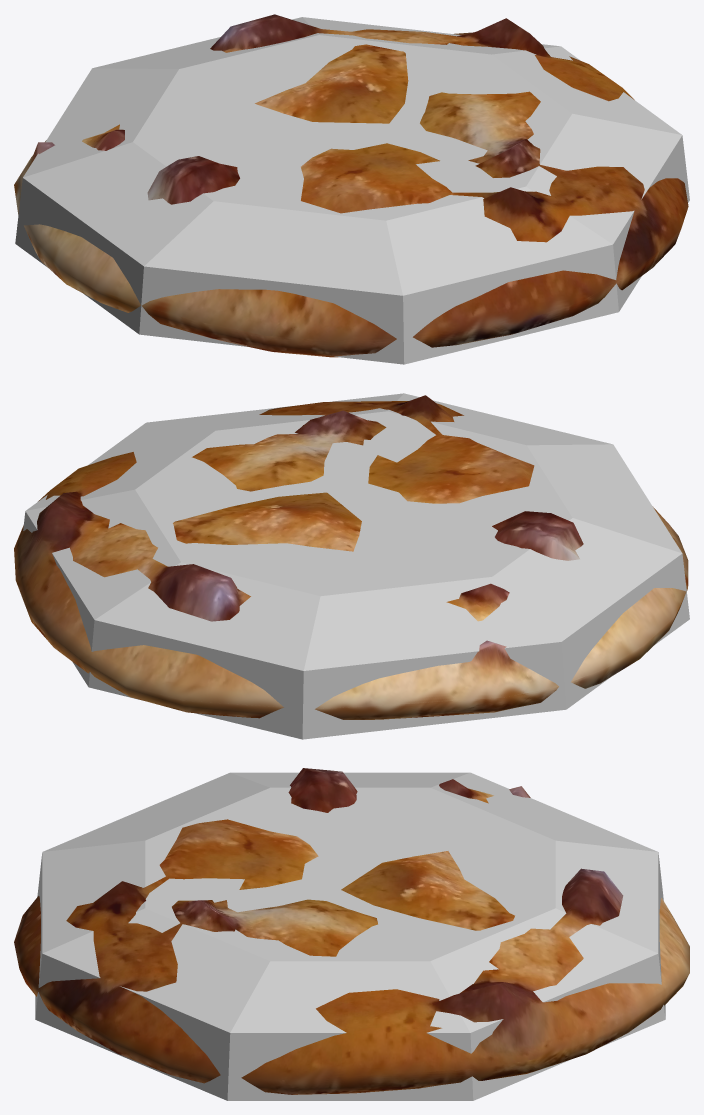
Rendered from Cookie.fbx.
The picture shows the model from 3 angles, top to bottom: view 1: azimuth 30°, elevation 25°; view 2: azimuth 150°, elevation 25°; view 3: azimuth 270°, elevation 25°; orthographic projection.
Visible parts, largest first — view 1: CookieConvex, Cookie; view 2: CookieConvex, Cookie; view 3: CookieConvex, Cookie.
Boxes of the visible parts, bbox=[...] form: CookieConvex: bbox=[15, 17, 689, 364]; Cookie: bbox=[14, 14, 688, 357]; CookieConvex: bbox=[23, 393, 689, 739]; Cookie: bbox=[14, 395, 688, 719]; CookieConvex: bbox=[35, 772, 665, 1100]; Cookie: bbox=[14, 768, 689, 1094].
Size of the model in its own units: 1.98 by 0.4091 by 2.
